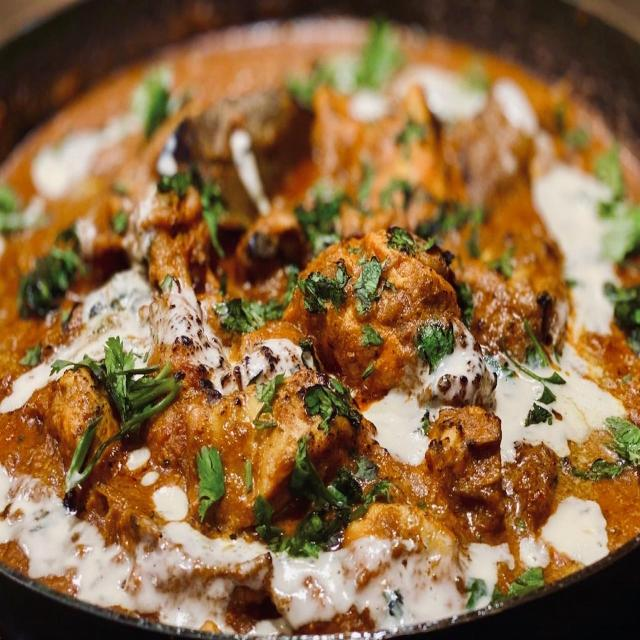chicken: (11, 28, 640, 624)
